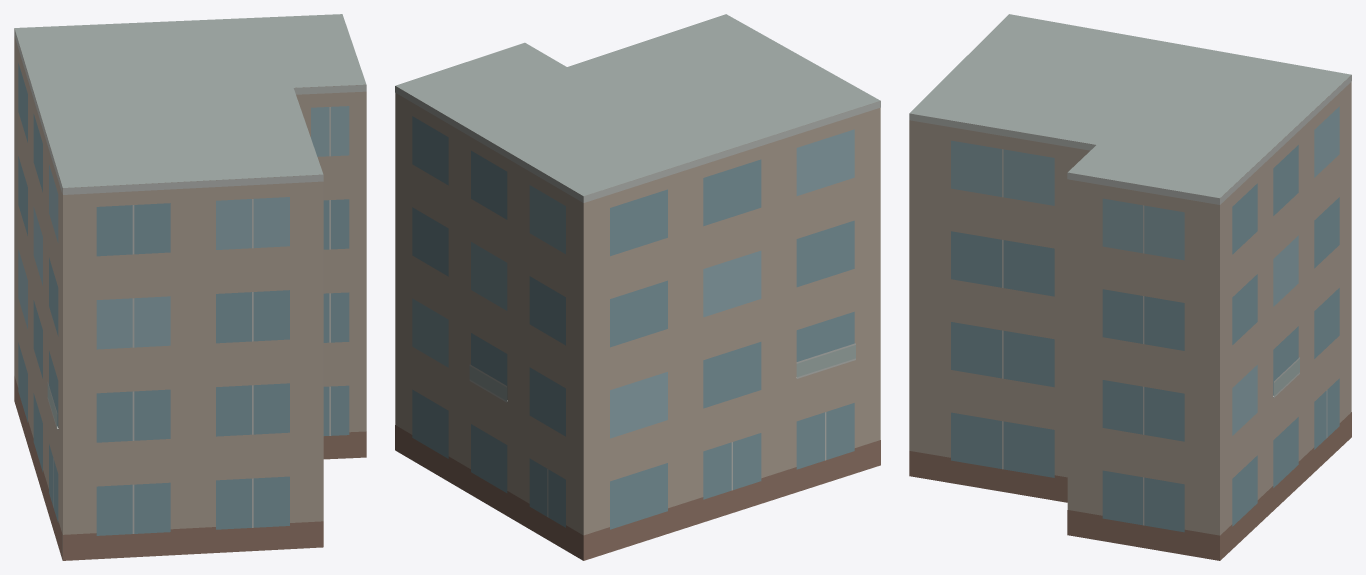
Rendered from survey-upis-32524304.glb.
3 renders of one model, left to right at view 1: azimuth 30°, elevation 25°; view 2: azimuth 150°, elevation 25°; view 3: azimuth 270°, elevation 25°, orthographic. The views are drawn at different scales.
Parts seen in each view (by area): view 1: survey-upis-32524304.tmp; view 2: survey-upis-32524304.tmp; view 3: survey-upis-32524304.tmp.
Part boxes in pixels (left/top/right/bottom): survey-upis-32524304.tmp: left=14, top=14, right=366, bottom=560; survey-upis-32524304.tmp: left=395, top=14, right=880, bottom=560; survey-upis-32524304.tmp: left=909, top=14, right=1351, bottom=560.
Bounding box in the file's own units: 14.17 × 13 × 14.38.
